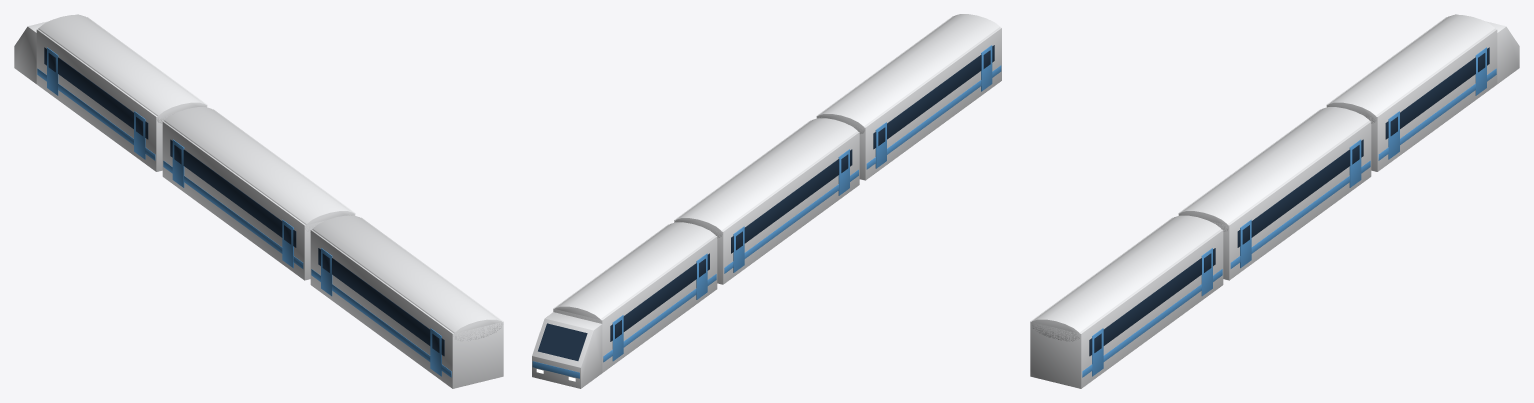
Rendered from train.glb.
3 renders of one model, left to right at view 1: azimuth 30°, elevation 25°; view 2: azimuth 150°, elevation 25°; view 3: azimuth 330°, elevation 25°, orthographic. The views are drawn at different scales.
Parts seen in each view (by area): view 1: train; view 2: train; view 3: train.
Boxes of the visible parts, x1,y1,x2,y2 form: train: [14, 14, 503, 388]; train: [532, 14, 1001, 388]; train: [1030, 14, 1519, 388].
Bounding box in the file's own units: 2.99 × 3.88 × 43.24.
5 materials, 3 textured.
